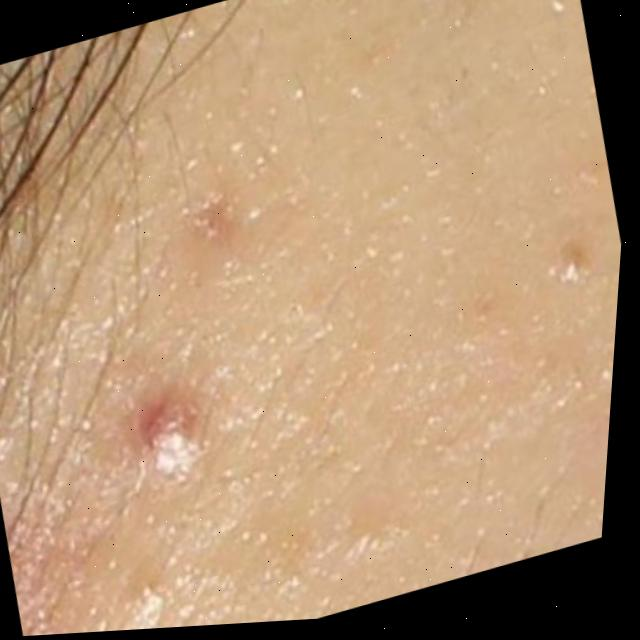Acne: (85, 84, 620, 478)
